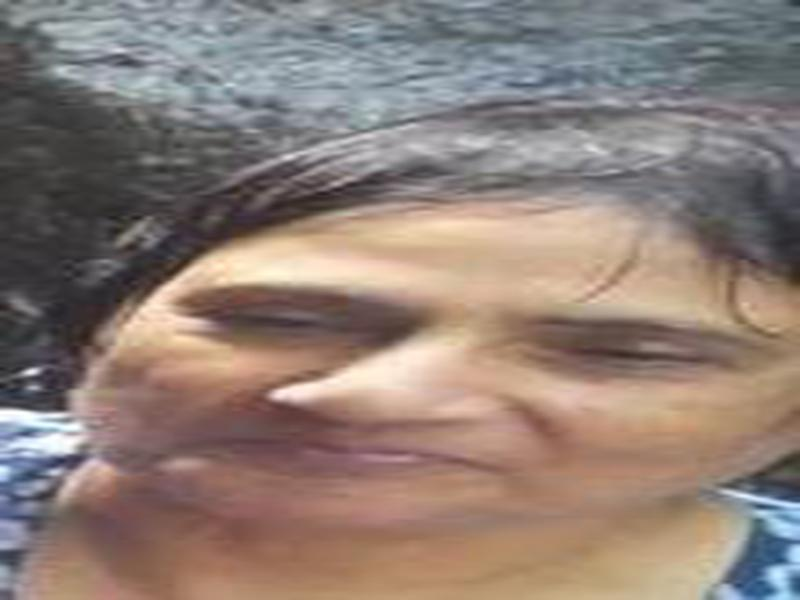without_mask: (85, 227, 782, 540)
